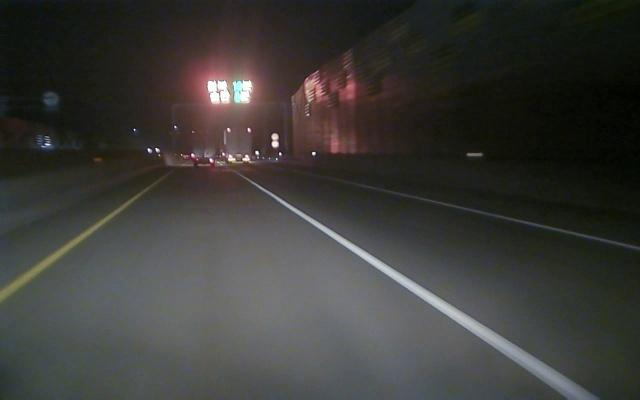lane: (247, 179, 600, 398), (338, 178, 640, 252), (1, 191, 142, 301)
